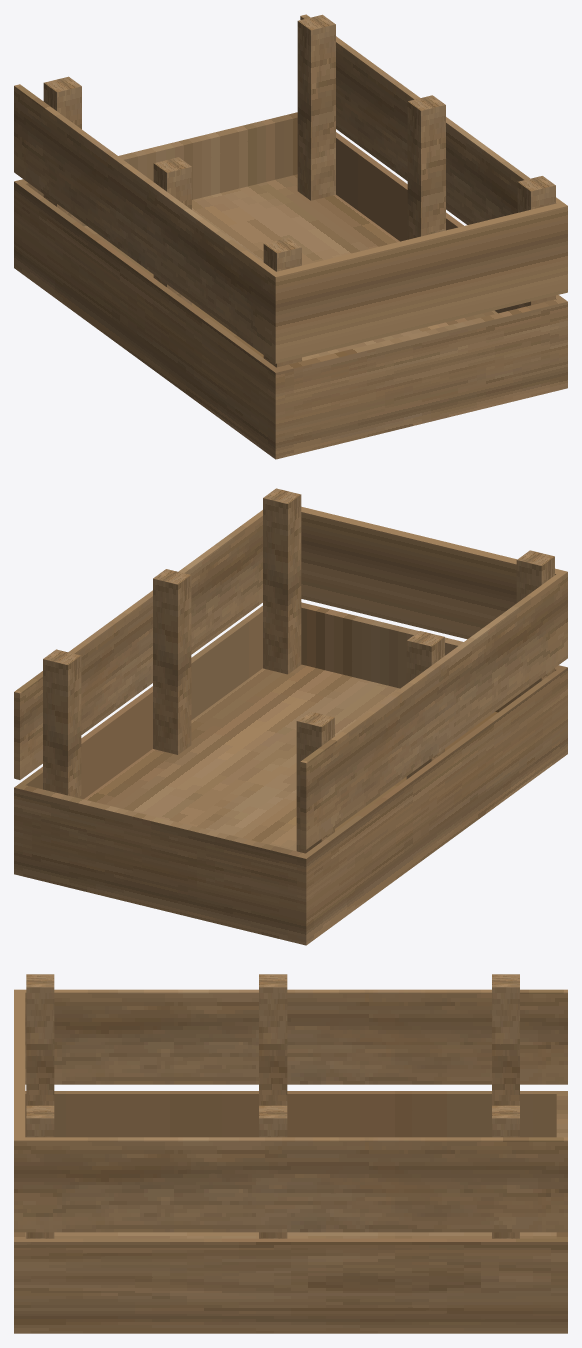
Rendered from truck bed 1.glb.
The picture shows the model from 3 angles, top to bottom: view 1: azimuth 30°, elevation 25°; view 2: azimuth 150°, elevation 25°; view 3: azimuth 270°, elevation 25°; orthographic projection. The views are drawn at different scales.
Visible parts, largest first — view 1: Cube.065, Cube.062, Cube.063, Cube.064; view 2: Cube.065, Cube.062, Cube.063, Cube.064; view 3: Cube.062, Cube.065, Cube.064, Cube.063.
Part boxes in pixels (box(x1,y1,x2,y2)): Cube.065: box(14, 112, 567, 459); Cube.062: box(14, 14, 567, 363); Cube.063: box(297, 14, 555, 308); Cube.064: box(43, 76, 301, 367); Cube.065: box(14, 602, 567, 945); Cube.062: box(14, 506, 567, 849); Cube.063: box(43, 488, 301, 798); Cube.064: box(296, 550, 554, 853); Cube.062: box(14, 989, 567, 1232); Cube.065: box(14, 1091, 567, 1333); Cube.064: box(26, 974, 519, 1105); Cube.063: box(26, 1105, 519, 1238).
Bounding box in the file's own units: 2.89 × 1.89 × 4.48.
1 material, 1 textured.
